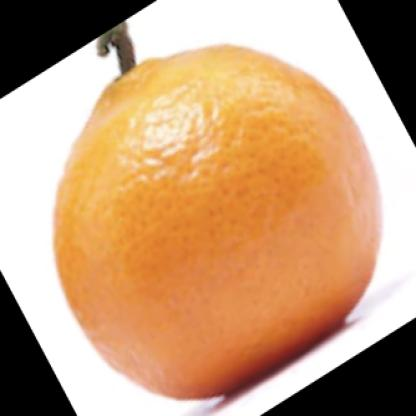fresh: (55, 43, 380, 404)
